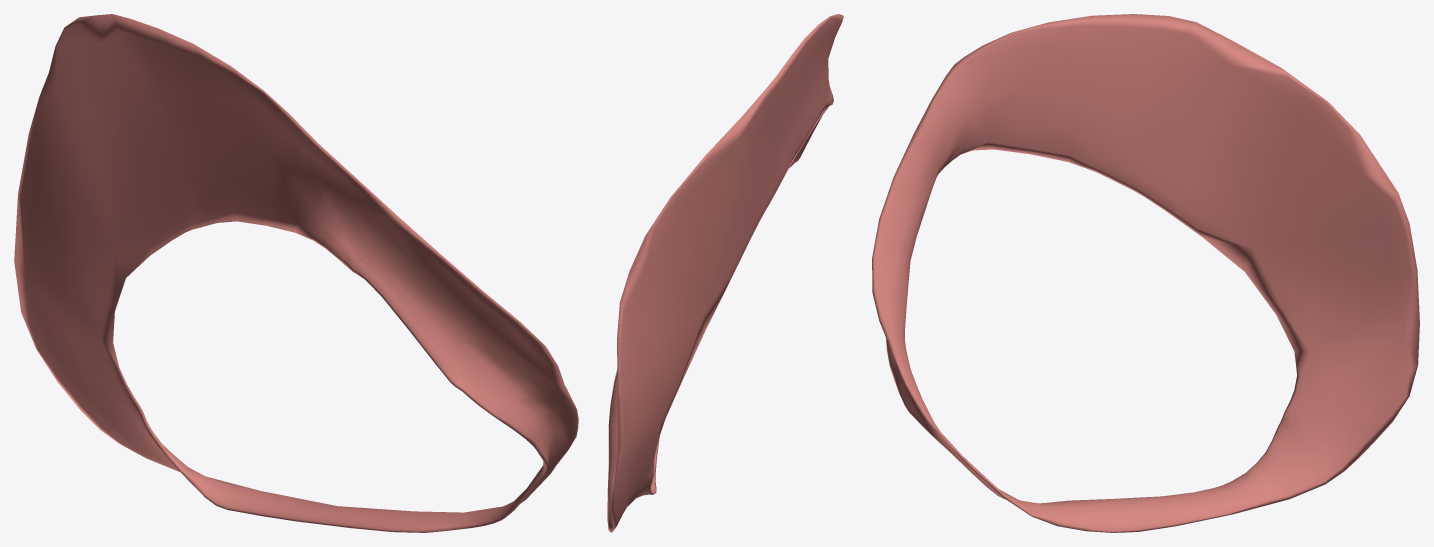
3 renders of one model, left to right at view 1: azimuth 30°, elevation 25°; view 2: azimuth 150°, elevation 25°; view 3: azimuth 270°, elevation 25°, orthographic. The views are drawn at different scales.
Parts seen in each view (by area): view 1: ZA_7f574033ffe187c2; view 2: ZA_7f574033ffe187c2; view 3: ZA_7f574033ffe187c2.
Boxes of the visible parts, x1,y1,x2,y2 form: ZA_7f574033ffe187c2: [14, 14, 578, 532]; ZA_7f574033ffe187c2: [607, 14, 843, 532]; ZA_7f574033ffe187c2: [872, 14, 1419, 532].
Bounding box in the file's own units: 0.0322 × 0.0584 × 0.0664.
